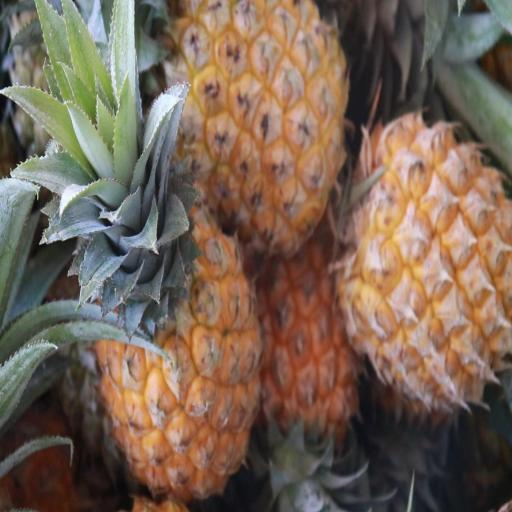Pineapple - v8 v1: (88, 131, 262, 498), (345, 113, 512, 416), (177, 0, 347, 251), (262, 236, 372, 482)
